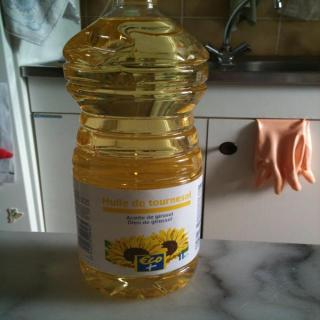Plastic-bottle: (59, 1, 215, 303)
